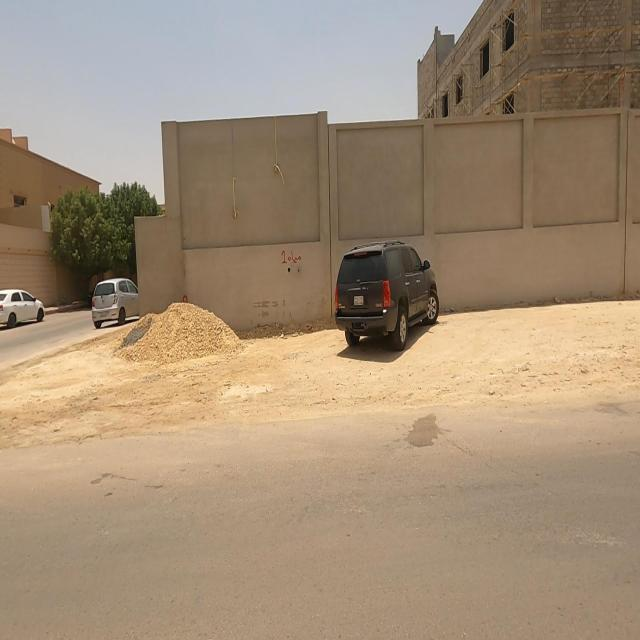Graffiti: (281, 249, 303, 268)
